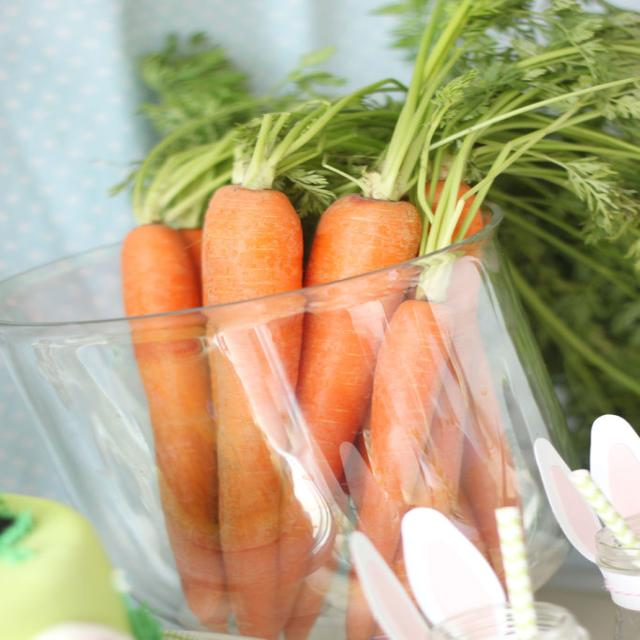Carrot: (109, 211, 219, 626)
